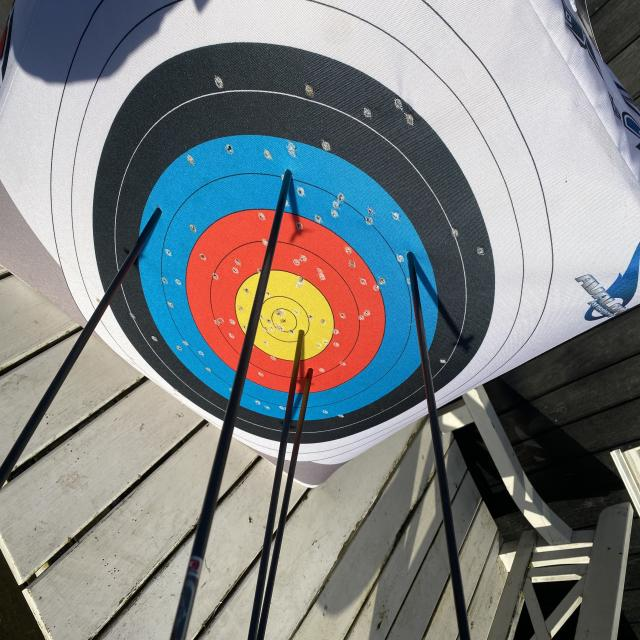Arrow_Blue: (271, 159, 304, 198), (142, 195, 183, 223), (399, 245, 436, 275)
Arrow_Red: (298, 354, 329, 402)
Arrow_Yellow: (290, 320, 323, 354)
